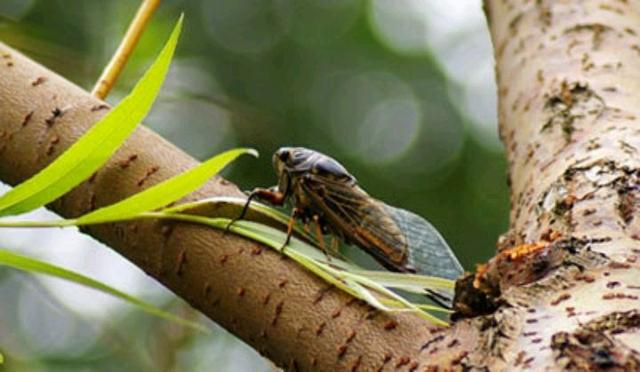chan: (248, 143, 458, 296)
